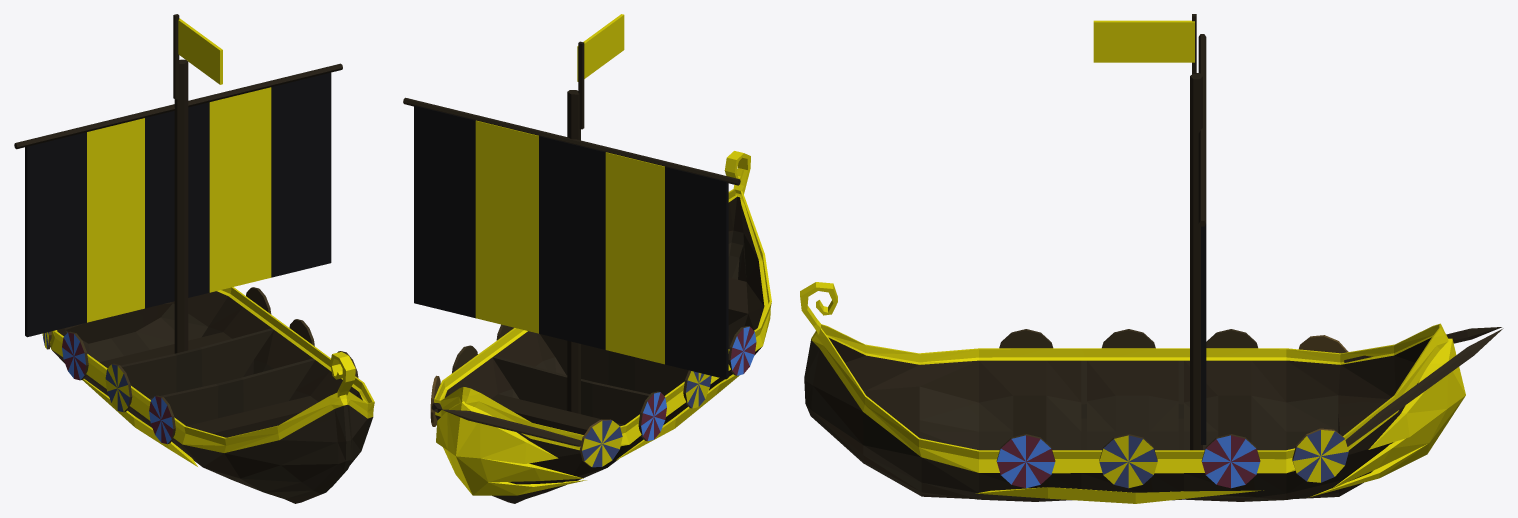
File: Enemy_Ship.fbx
The picture shows the model from 3 angles, left to right: view 1: azimuth 30°, elevation 25°; view 2: azimuth 150°, elevation 25°; view 3: azimuth 270°, elevation 25°; orthographic projection. The views are drawn at different scales.
Visible parts, largest first — view 1: Sail, Boat_Inner, Boat_outter, Flag; view 2: Sail, Boat_Inner, Boat_outter, Flag; view 3: Boat_outter, Boat_Inner, Flag, Sail.
Part boxes in pixels (bbox=[...]): Sail: bbox=[25, 72, 331, 337]; Boat_Inner: bbox=[14, 14, 368, 437]; Boat_outter: bbox=[42, 287, 374, 503]; Flag: bbox=[178, 18, 222, 84]; Sail: bbox=[414, 105, 728, 379]; Boat_Inner: bbox=[403, 41, 768, 434]; Boat_outter: bbox=[430, 151, 771, 503]; Flag: bbox=[577, 14, 624, 81]; Boat_outter: bbox=[800, 282, 1503, 503]; Boat_Inner: bbox=[827, 14, 1433, 450]; Flag: bbox=[1093, 20, 1194, 62]; Sail: bbox=[1201, 224, 1206, 444].
Size of the model in its own units: 1640 by 1961 by 2610.
